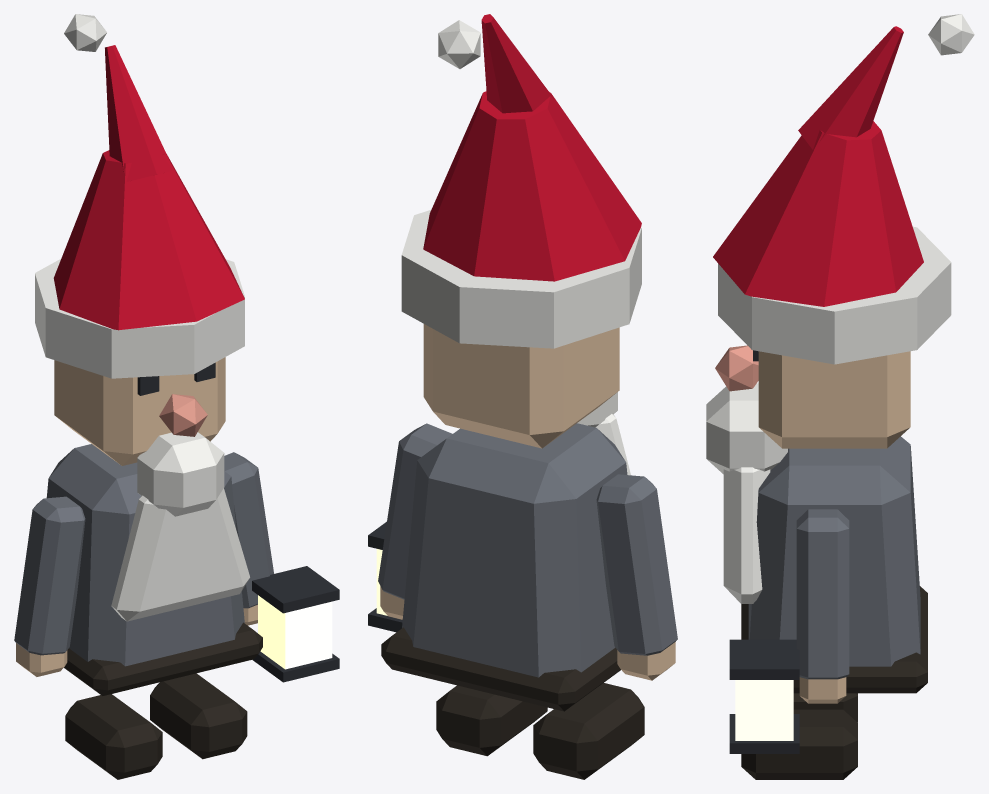
Rendered from nisse_statue.glb.
The picture shows the model from 3 angles, left to right: view 1: azimuth 30°, elevation 25°; view 2: azimuth 150°, elevation 25°; view 3: azimuth 270°, elevation 25°; orthographic projection. The views are drawn at different scales.
Parts seen in each view (by area): view 1: nisse_statue; view 2: nisse_statue; view 3: nisse_statue.
Boxes of the visible parts, <box> form: nisse_statue: <box>14,14,339,779</box>; nisse_statue: <box>368,14,677,779</box>; nisse_statue: <box>706,14,974,779</box>.
Bounding box in the file's own units: 0.5839 × 1.38 × 0.46.
